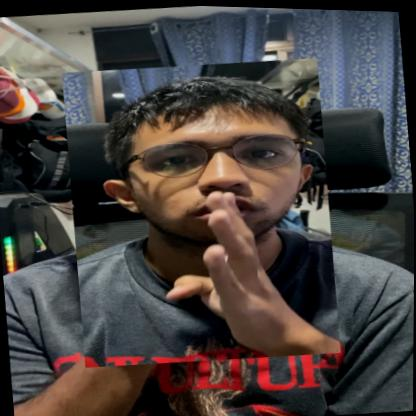Talk: (60, 50, 343, 373)
